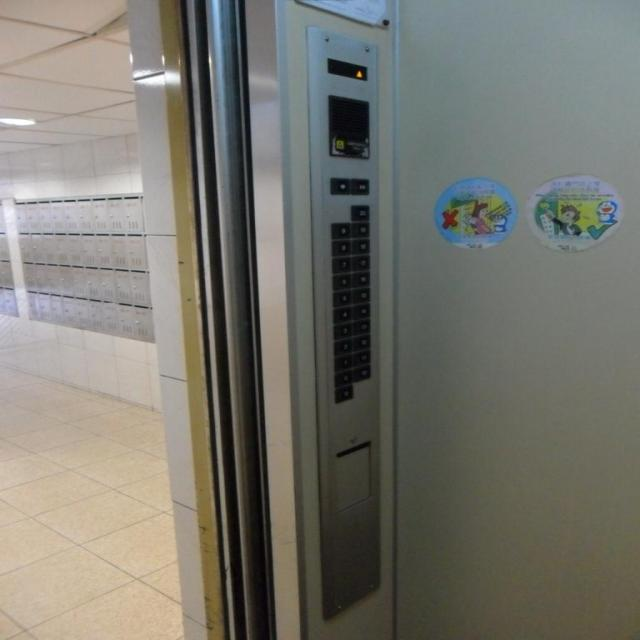1: (332, 354, 351, 371)
10: (352, 365, 371, 382)
11: (352, 348, 370, 366)
12: (352, 334, 370, 351)
13: (352, 318, 371, 335)
15: (351, 286, 369, 303)
2: (332, 337, 352, 355)
3: (332, 322, 351, 339)
4: (332, 306, 351, 323)
5: (330, 288, 351, 308)
6: (331, 272, 351, 288)
7: (330, 256, 350, 272)
8: (330, 240, 350, 256)
9: (330, 222, 350, 238)
alarm: (334, 139, 344, 149)
blur: (349, 204, 370, 222), (350, 220, 370, 238), (351, 253, 371, 271), (333, 370, 352, 388), (350, 237, 370, 254), (351, 270, 369, 288), (333, 384, 352, 401), (352, 302, 370, 319)
close: (350, 176, 370, 196)
led: (326, 57, 366, 82)
open: (328, 177, 350, 194)
